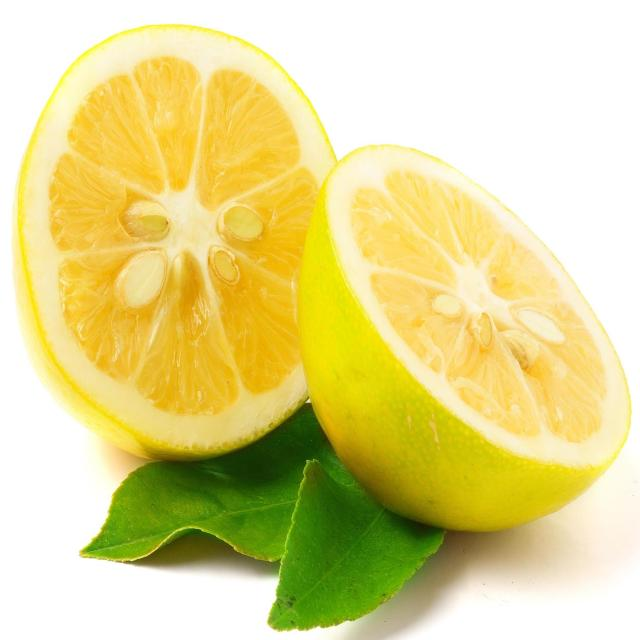lemon: (7, 18, 358, 473), (290, 135, 636, 537)
